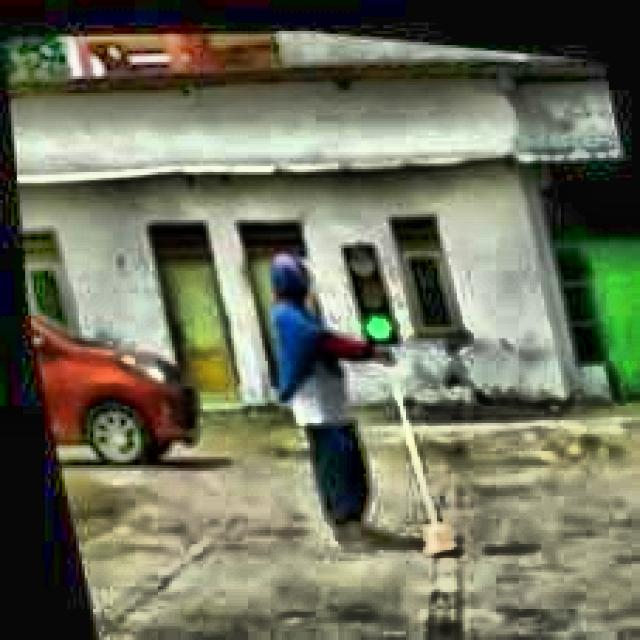green: (337, 232, 396, 338)
